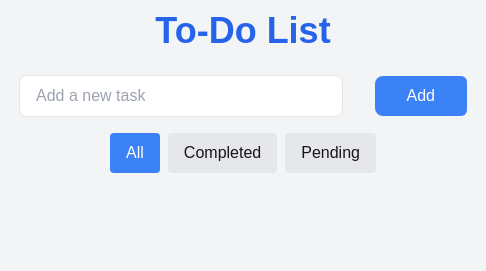
Scenario: ToDoList Component › should delete a to-do
Type "Learn Jest" into the field with placeholder "Add a new task".
click(181, 96); type("Learn Jest")  # box [19,75,342,117]
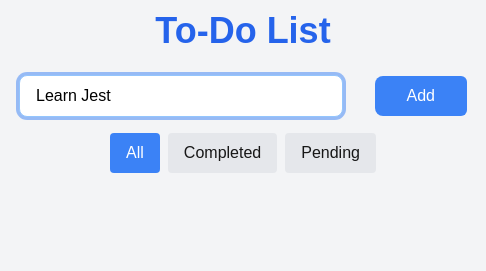
Click the button "Add".
click(421, 96)  # box [374,76,467,116]
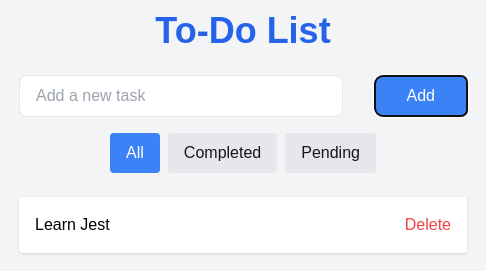
Click the button "Delete".
click(428, 225)  # box [405,213,451,237]
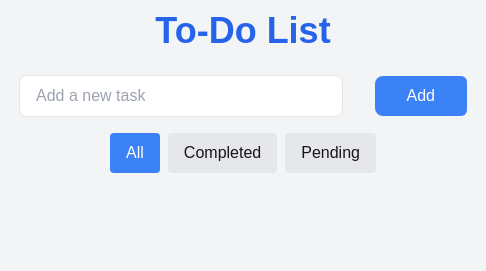
Now the text "Learn Jest" is gone
